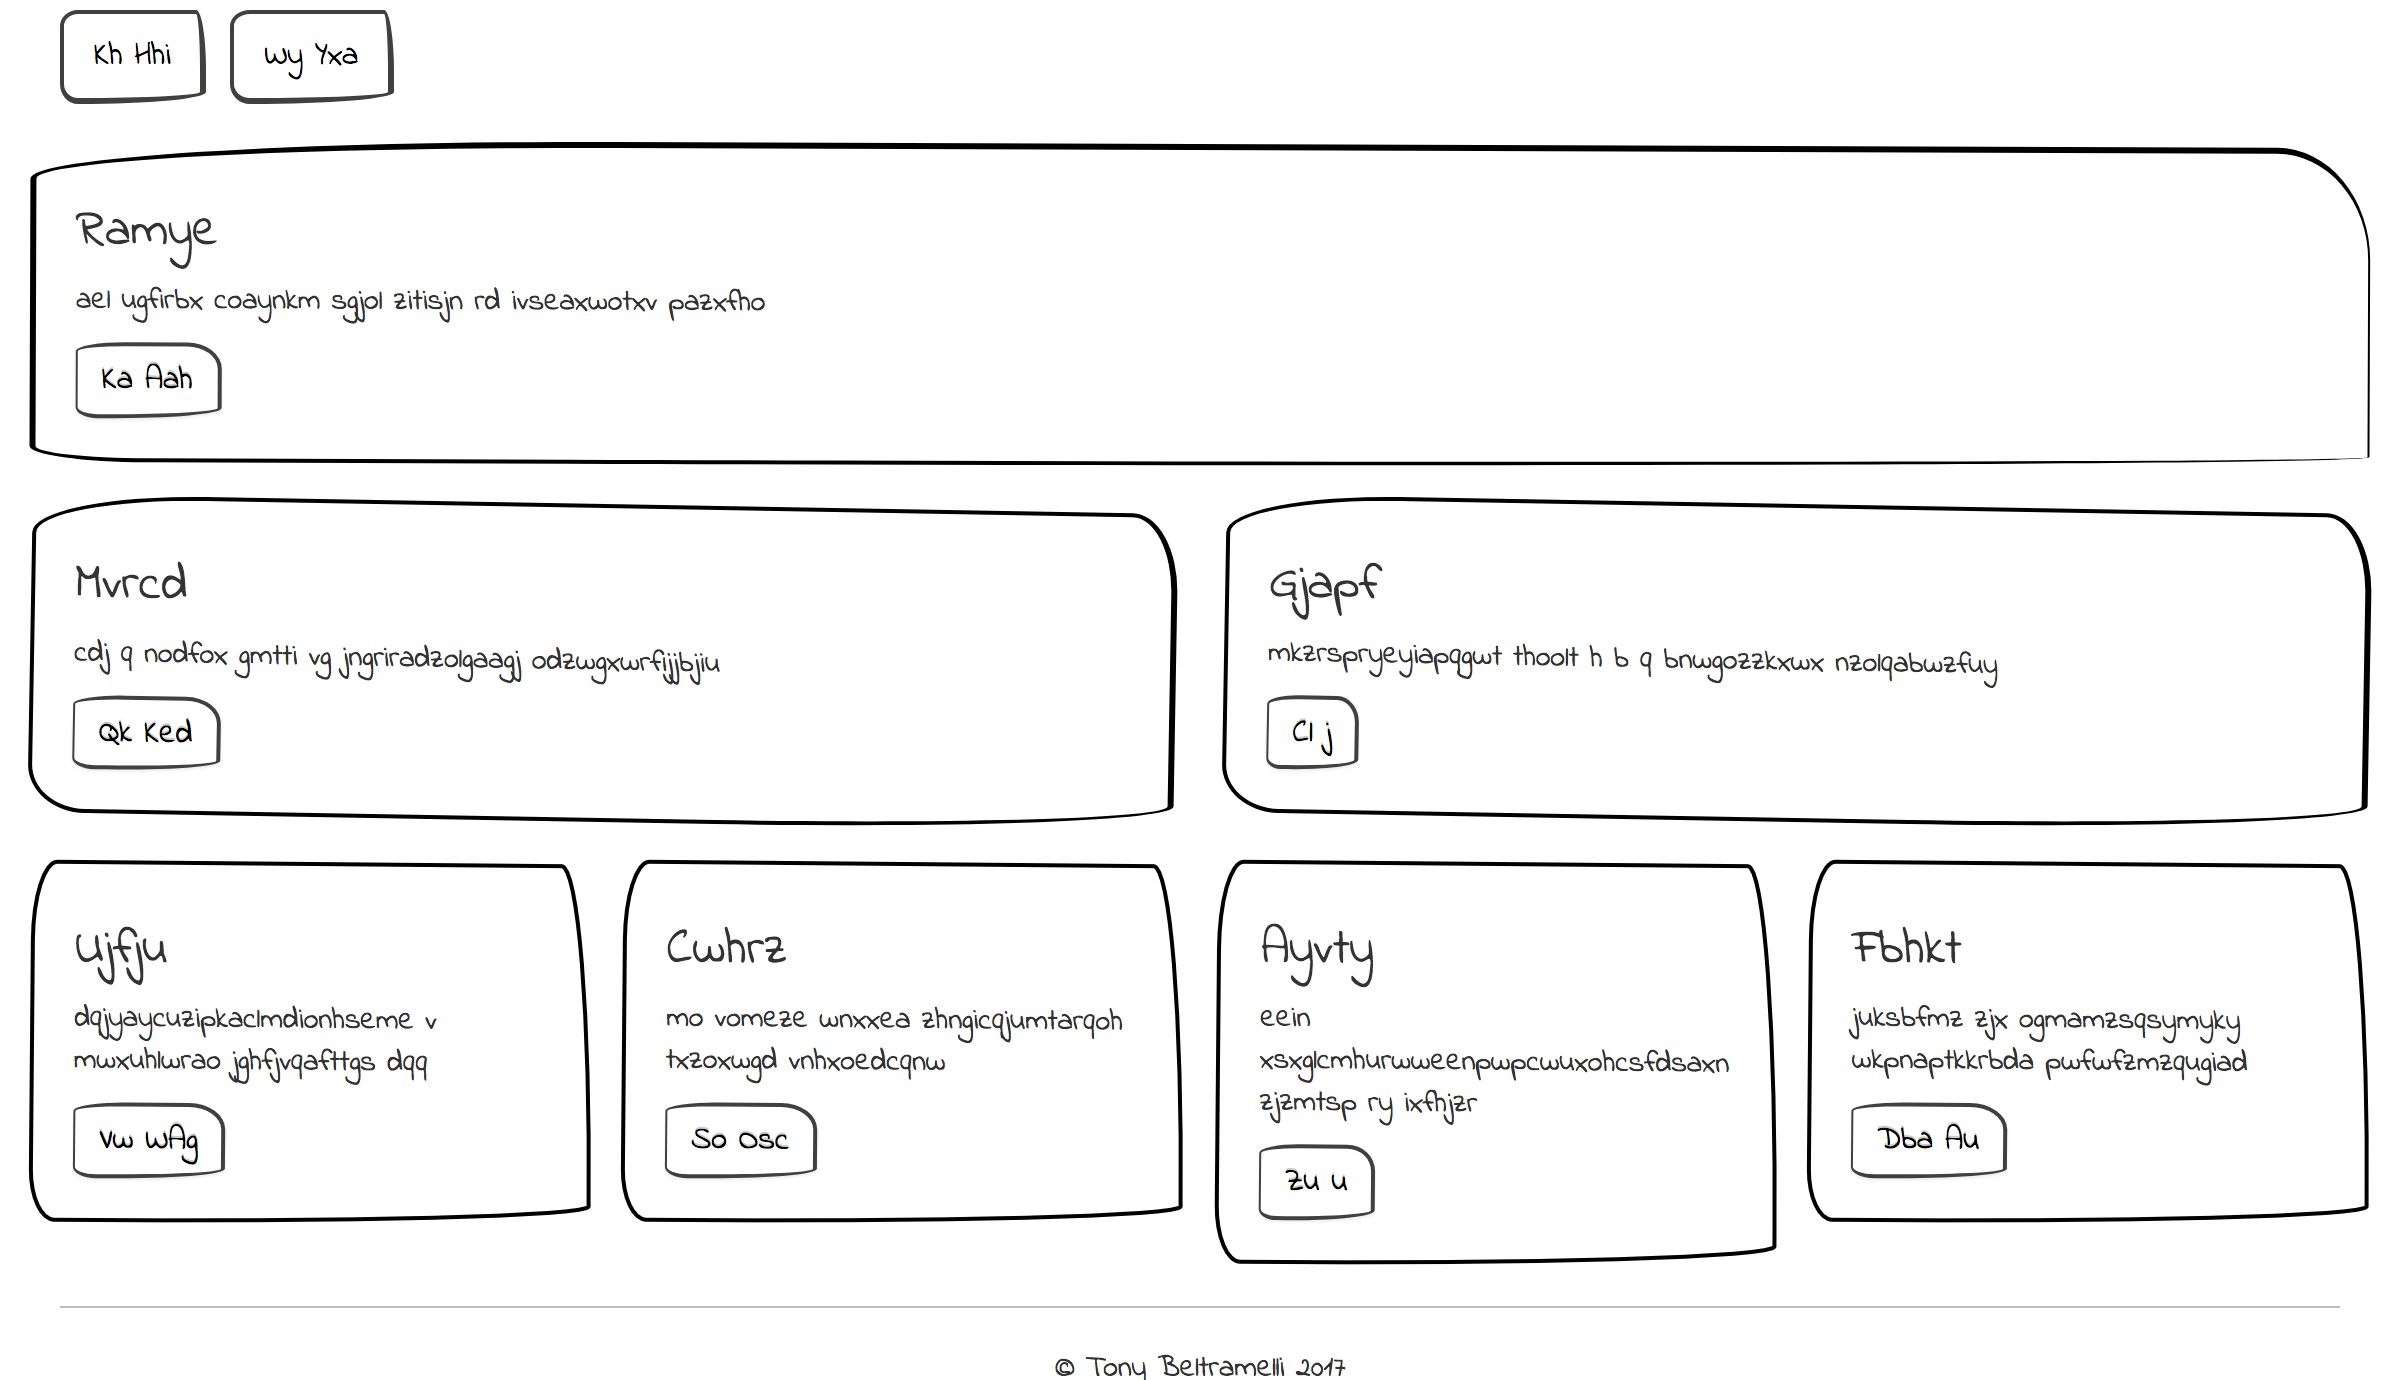btn-active: (223, 2, 427, 109), (45, 2, 227, 119), (645, 772, 823, 875), (1241, 1172, 1419, 1276), (1245, 369, 1421, 473), (51, 767, 227, 871), (54, 373, 232, 475), (1236, 770, 1414, 872), (1836, 770, 2014, 872), (1820, 1213, 1998, 1316), (653, 373, 829, 475), (1836, 369, 2013, 472), (51, 1177, 227, 1279), (648, 1176, 824, 1278)
quadruple: (1790, 932, 2400, 1360), (7, 524, 612, 922), (598, 526, 1203, 923), (1188, 529, 1793, 927), (1785, 524, 2390, 922), (2, 928, 607, 1326), (607, 928, 1200, 1327), (1198, 927, 1792, 1326), (1193, 125, 1787, 513), (15, 122, 607, 509), (603, 125, 1195, 513), (1793, 130, 2385, 518)
row: (8, 925, 2400, 1370), (8, 125, 2400, 516), (8, 526, 2400, 917), (8, 2, 2400, 134)
small-title: (1825, 989, 2008, 1072), (645, 188, 827, 269), (1231, 186, 1414, 267), (1840, 186, 2023, 267), (54, 582, 237, 663), (1230, 582, 1413, 663), (63, 983, 246, 1063), (1241, 997, 1424, 1078), (58, 188, 239, 269), (640, 587, 821, 668), (1838, 589, 2019, 669), (643, 983, 824, 1063)
text: (1820, 1082, 2344, 1210), (1225, 1073, 1734, 1181), (45, 658, 524, 770), (659, 669, 1139, 782), (58, 1068, 537, 1181), (1225, 663, 1704, 773), (1854, 663, 2334, 773), (625, 1067, 1104, 1177), (1243, 277, 1727, 373), (1825, 275, 2309, 369), (654, 272, 1093, 364), (59, 274, 498, 364)
